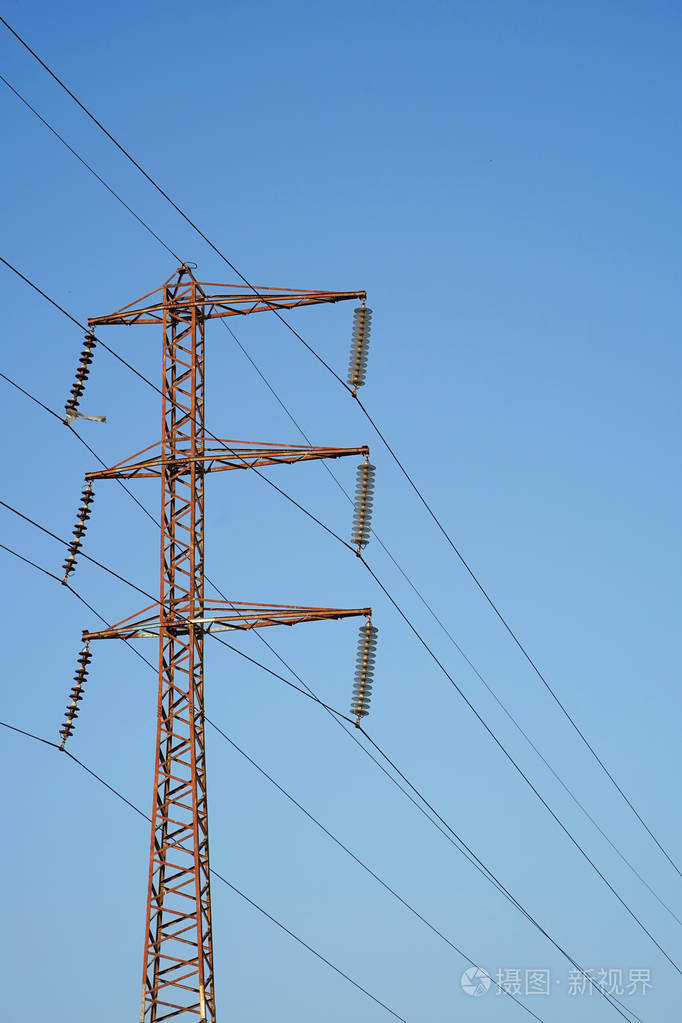insulator: (60, 648, 92, 739), (351, 622, 379, 720), (63, 487, 93, 574), (348, 464, 375, 546), (66, 335, 92, 410), (347, 305, 369, 385)
